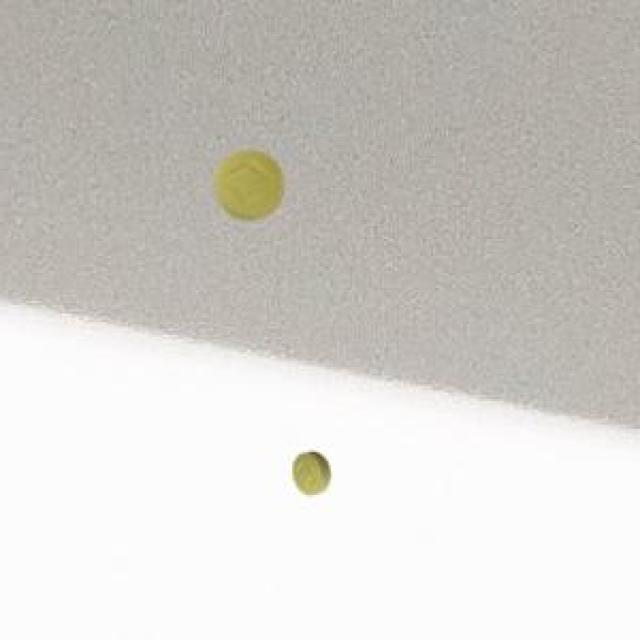Decolgen: (202, 140, 294, 233), (278, 439, 342, 511)
